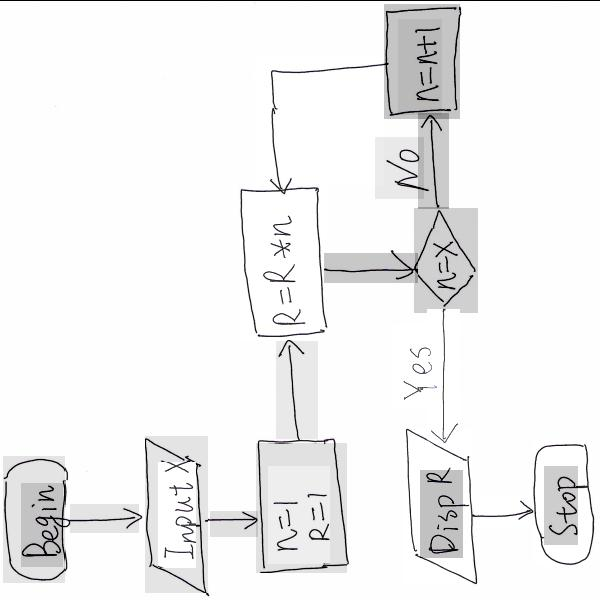arrow: (254, 57, 384, 185), (427, 308, 460, 443), (276, 340, 318, 438), (418, 111, 449, 208), (324, 251, 418, 282), (70, 503, 139, 532), (480, 494, 530, 527), (210, 510, 258, 536)
data: (403, 429, 472, 582), (146, 435, 208, 591)
decision: (415, 207, 478, 311)
process: (240, 186, 326, 339), (257, 442, 347, 571), (384, 3, 460, 118)
terminator: (4, 455, 66, 582), (533, 438, 592, 564)
text: (268, 465, 330, 563), (263, 213, 302, 329), (398, 18, 442, 114), (393, 323, 442, 407), (158, 461, 196, 567), (420, 469, 463, 557), (22, 482, 64, 566), (375, 136, 424, 198), (544, 465, 578, 544)
